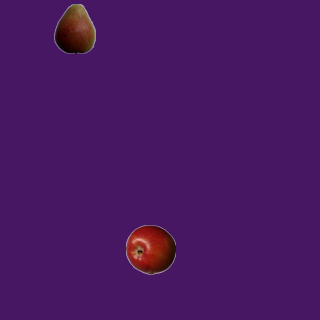Apple Braeburn: (125, 224, 175, 274)
Pear Forelle: (49, 3, 99, 53)
